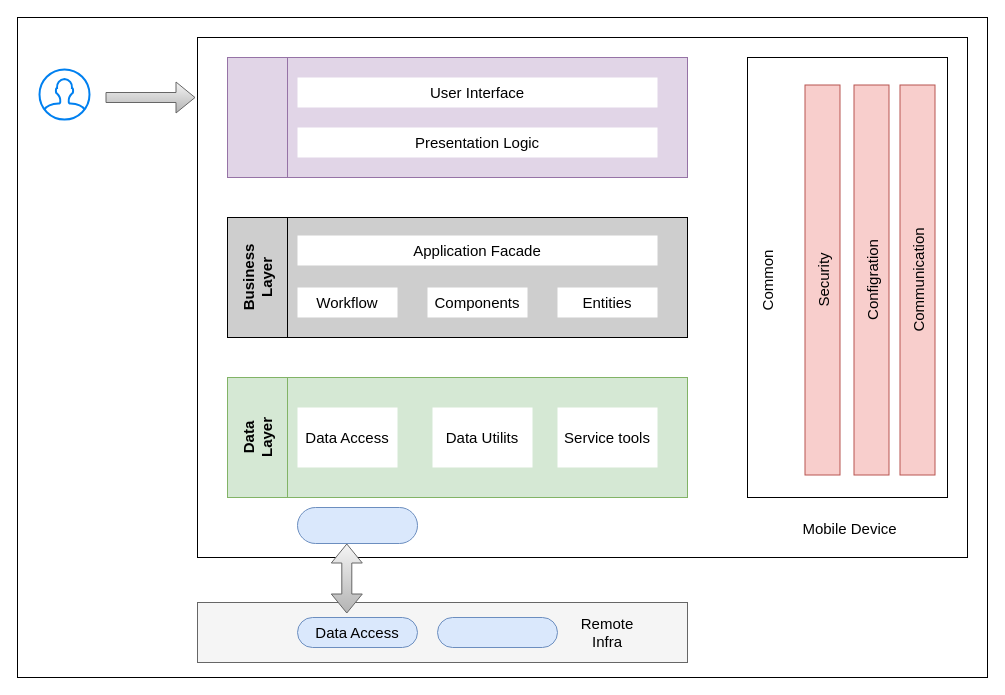
This 1005x695 diagram has some shape labels left out. Each missing label, with the centre of its shape:
"Local Data & Cache" belongs at (357,525).
"Presentation Layer" belongs at (257,117).
"Services" belongs at (497,632).
"User" belongs at (64,94).
